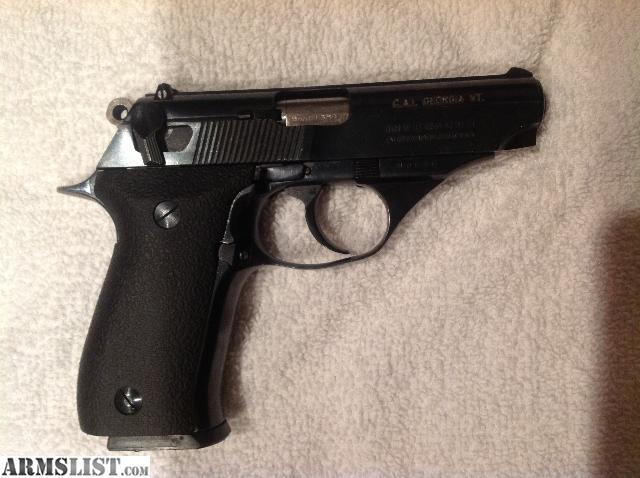gun: (55, 61, 557, 456)
